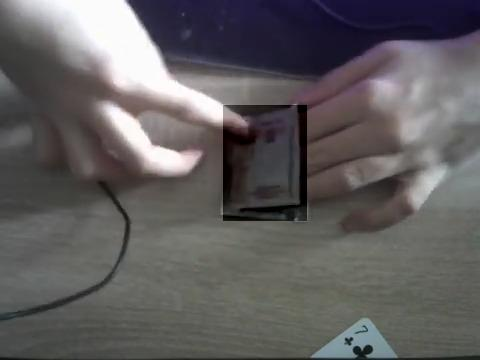5leva: (223, 105, 307, 221)
